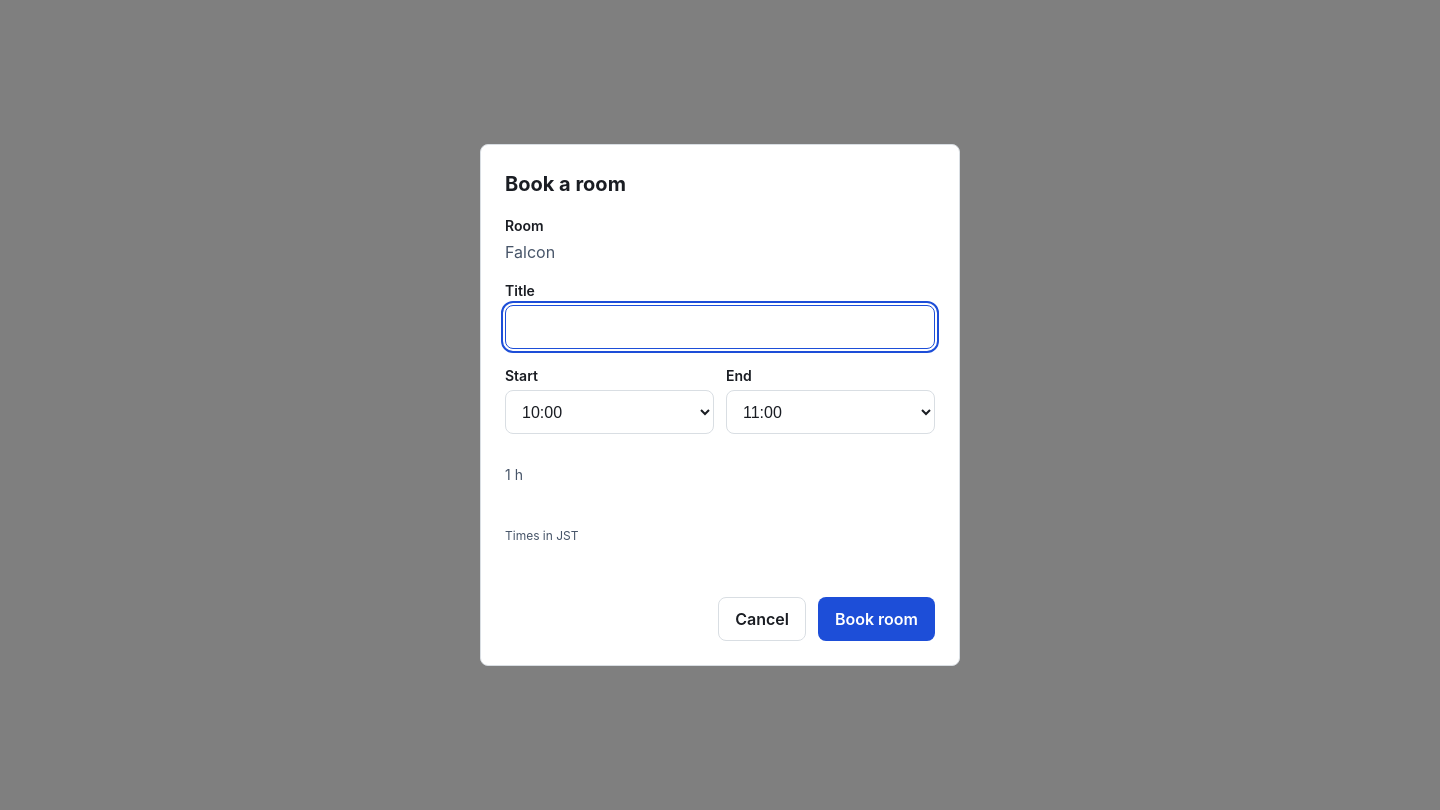
BookingDialog › requires a title before submitting
Click the button "Book room" at (876, 619), box [818,597,935,641]
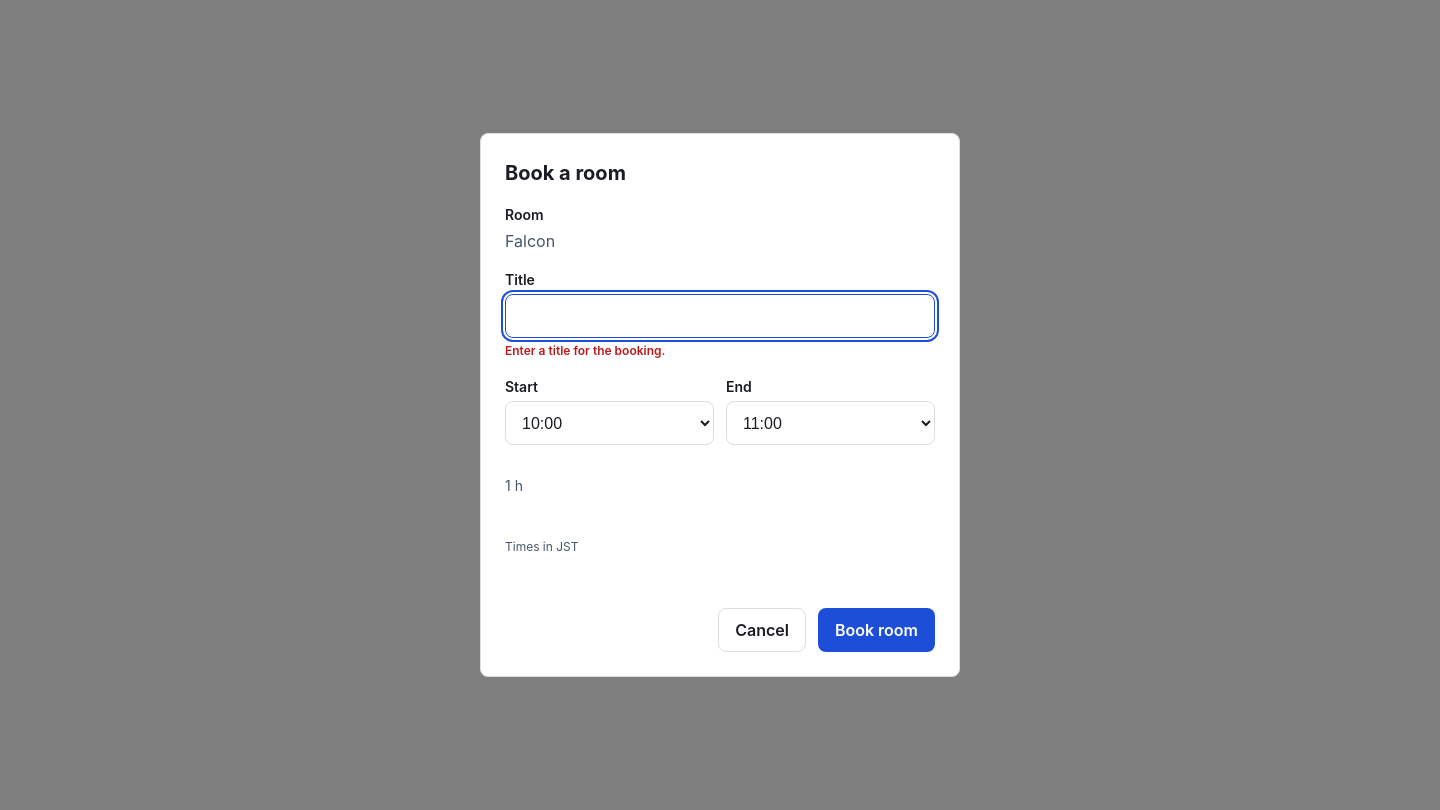
expect the text "Enter a title for the booking." is shown: met, box [505,343,665,358]
